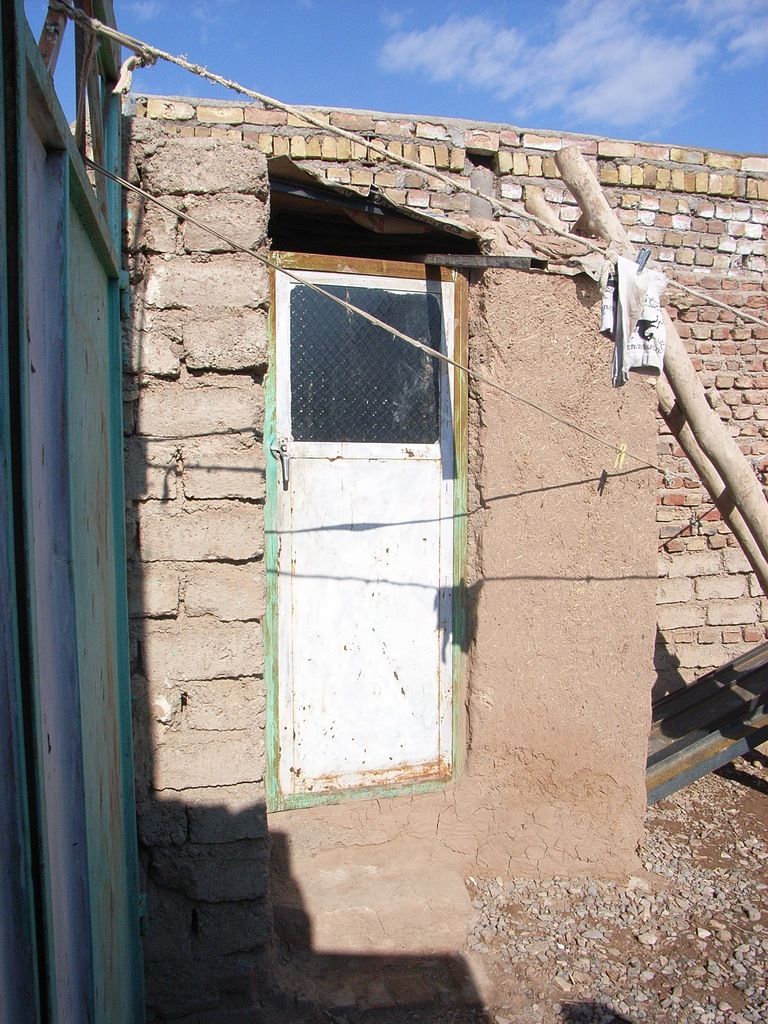door: (277, 282, 450, 761)
handle: (277, 438, 290, 488)
